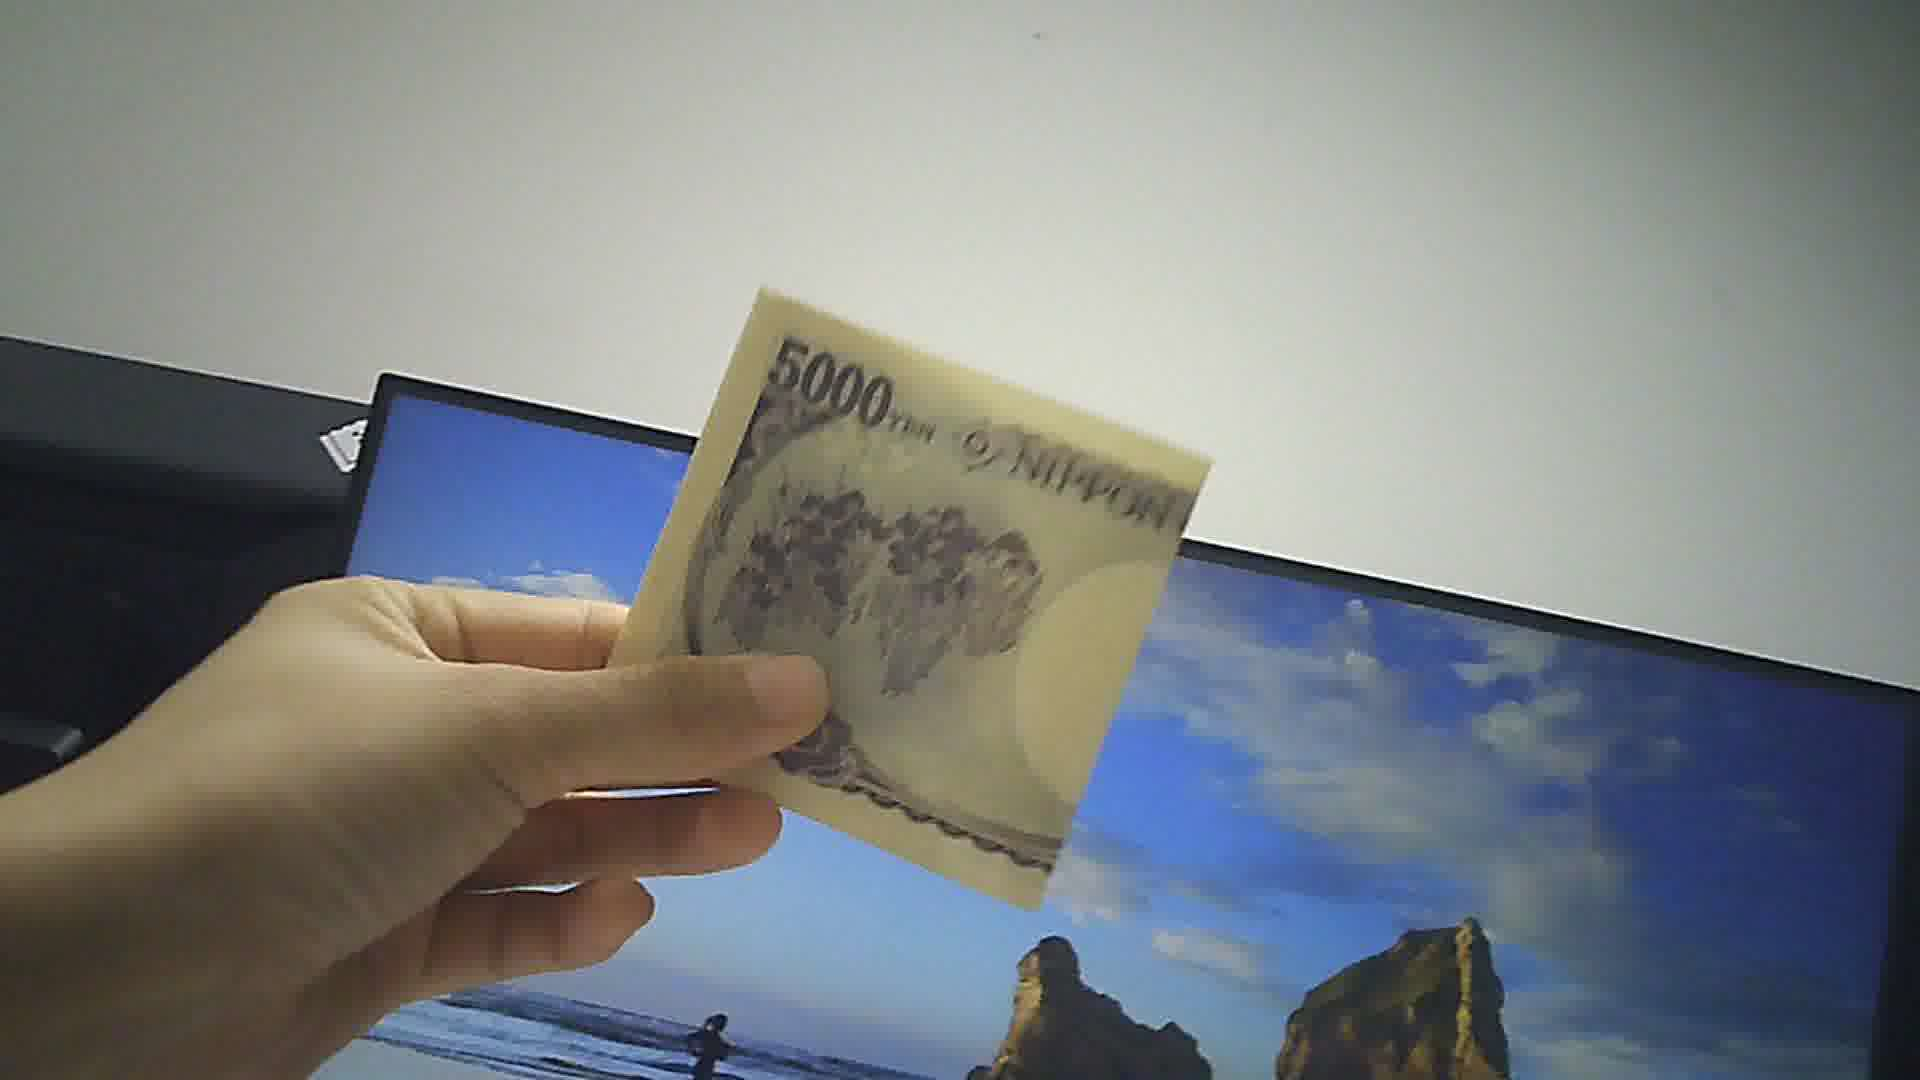5,000 Yen: (618, 268, 1215, 894)
